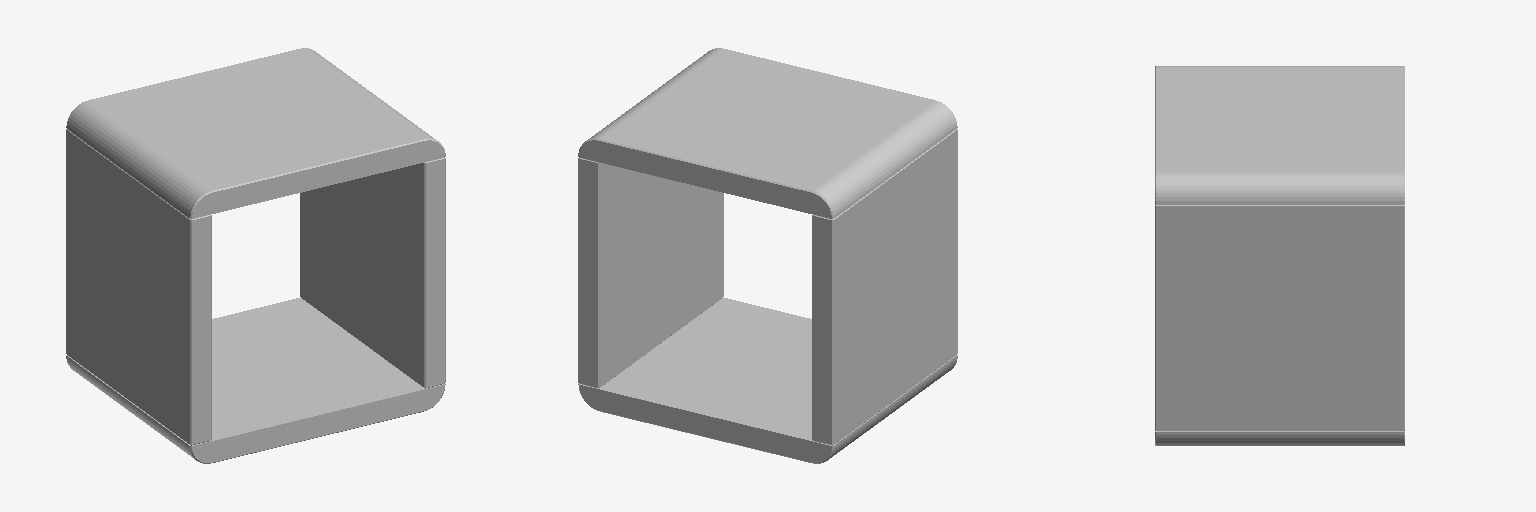
Rendered from storage_box.obj.
3 renders of one model, left to right at view 1: azimuth 30°, elevation 25°; view 2: azimuth 150°, elevation 25°; view 3: azimuth 270°, elevation 25°, orthographic.
Visible parts, largest first — view 1: Box02, Box03; view 2: Box02, Box03; view 3: Box03, Box02.
Part boxes in pixels (bbox=[...]): Box02: bbox=[66, 48, 445, 463]; Box03: bbox=[66, 129, 445, 445]; Box02: bbox=[578, 48, 957, 463]; Box03: bbox=[578, 129, 957, 445]; Box03: bbox=[1155, 205, 1404, 430]; Box02: bbox=[1155, 66, 1404, 445].
Size of the model in its own units: 13.93 by 14.17 by 11.81.